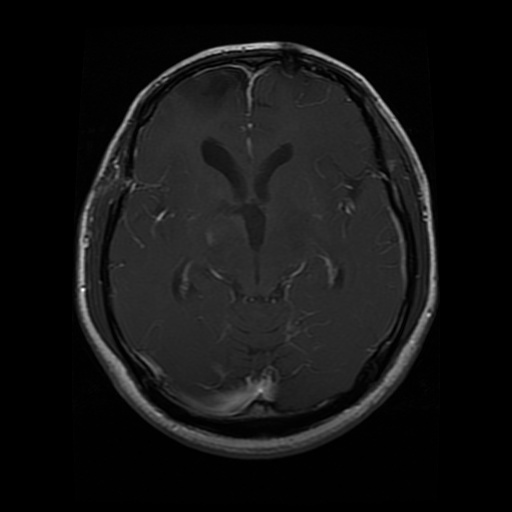glioma: (176, 66, 242, 115)
